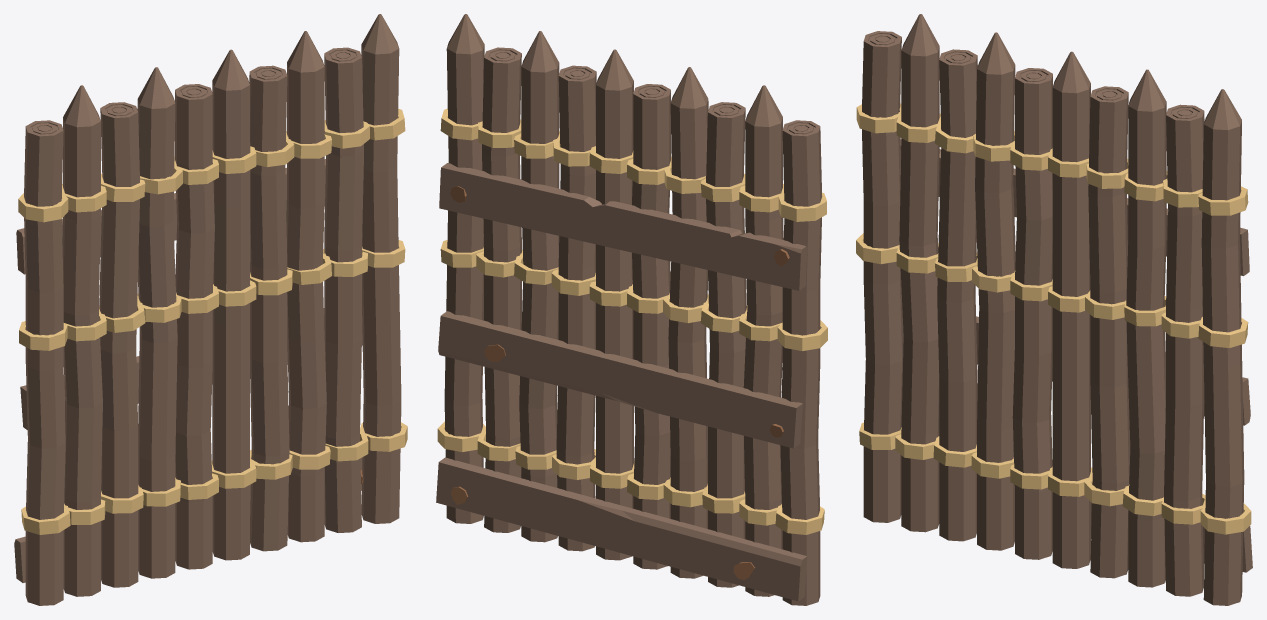
The model's file is fort-fence.fbx.
The picture shows the model from 3 angles, left to right: view 1: azimuth 30°, elevation 25°; view 2: azimuth 150°, elevation 25°; view 3: azimuth 330°, elevation 25°; orthographic projection.
Parts seen in each view (by area): view 1: fort-fence; view 2: fort-fence; view 3: fort-fence.
Boxes of the visible parts, left/top/right/bottom form: fort-fence: left=14, top=14, right=407, bottom=605; fort-fence: left=436, top=14, right=827, bottom=605; fort-fence: left=856, top=14, right=1252, bottom=605.
Bounding box in the file's own units: 270 × 339 × 38.36.
